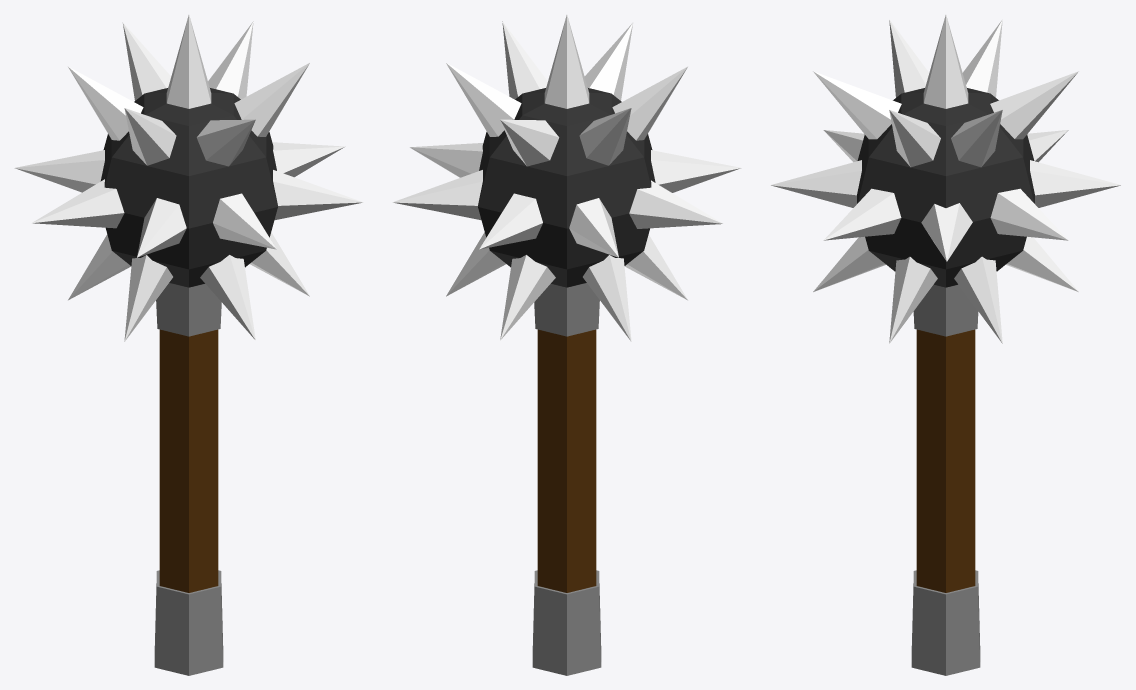
Rendered from chuy.fbx.
3 views of the same model, side by side, from view 1: azimuth 30°, elevation 25°; view 2: azimuth 150°, elevation 25°; view 3: azimuth 270°, elevation 25° (orthographic).
Visible parts, largest first — view 1: chuy; view 2: chuy; view 3: chuy.
Boxes of the visible parts, <box> form: chuy: <box>14,15,363,675</box>; chuy: <box>392,15,741,675</box>; chuy: <box>770,15,1121,675</box>.
Bounding box in the file's own units: 2.28 × 4.52 × 2.21.
